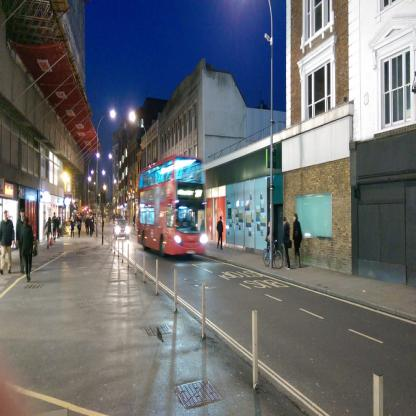Bus: (138, 154, 206, 260)
